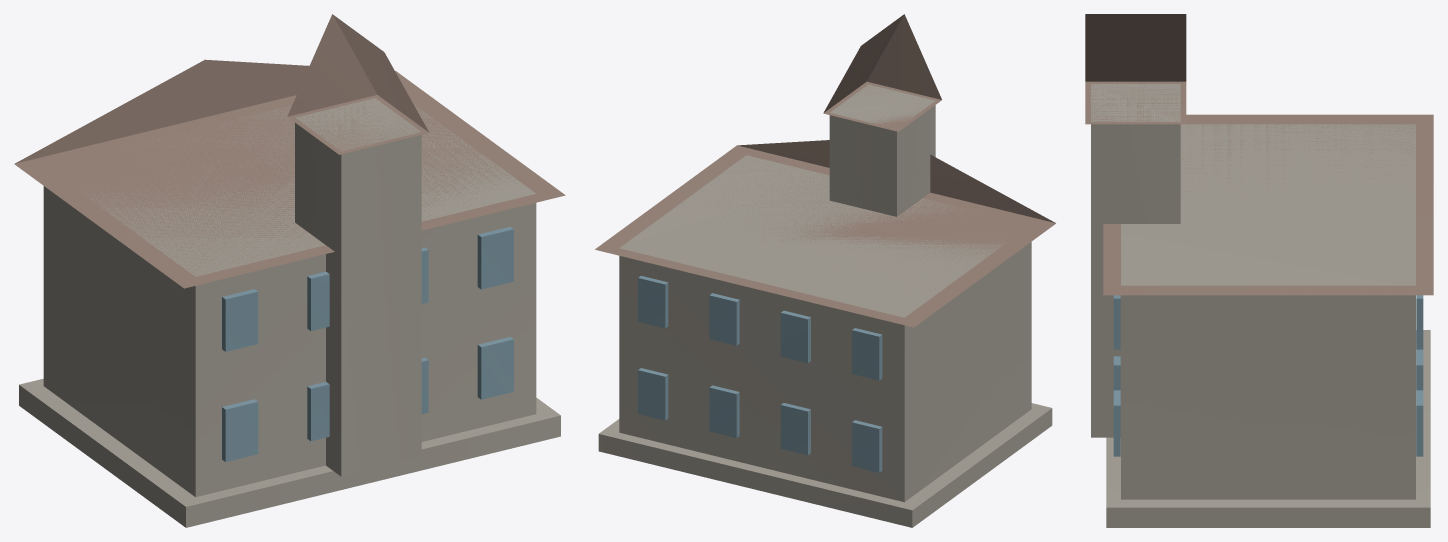
File: church-06.glb
3 renders of one model, left to right at view 1: azimuth 30°, elevation 25°; view 2: azimuth 150°, elevation 25°; view 3: azimuth 270°, elevation 25°, orthographic. The views are drawn at different scales.
Parts seen in each view (by area): view 1: world; view 2: world; view 3: world.
Part boxes in pixels (x1,y1,x2,y2): world: (14, 14, 565, 527); world: (595, 14, 1055, 527); world: (1085, 14, 1433, 527).
Size of the model in its own units: 1.52 by 1.67 by 1.24.
